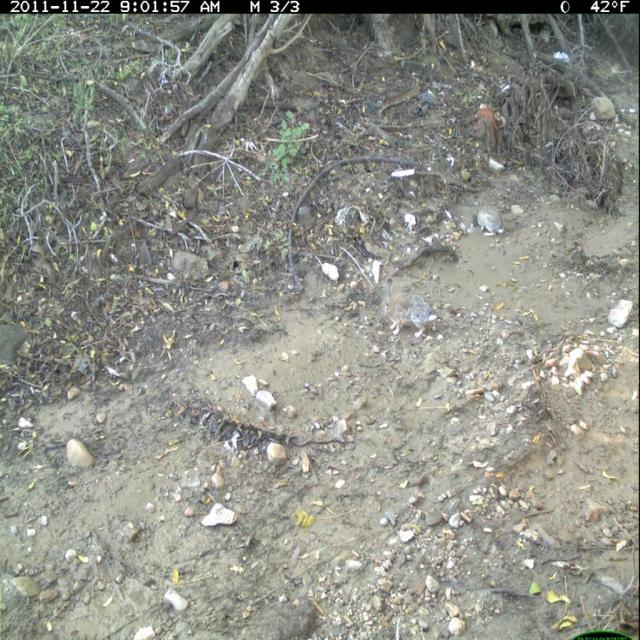rabbit: (375, 275, 441, 348), (468, 197, 508, 240)
